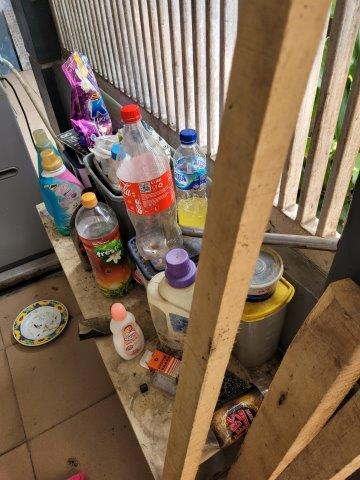botolplastik: (118, 105, 178, 258), (189, 375, 277, 449), (74, 193, 133, 297), (175, 130, 209, 227)
